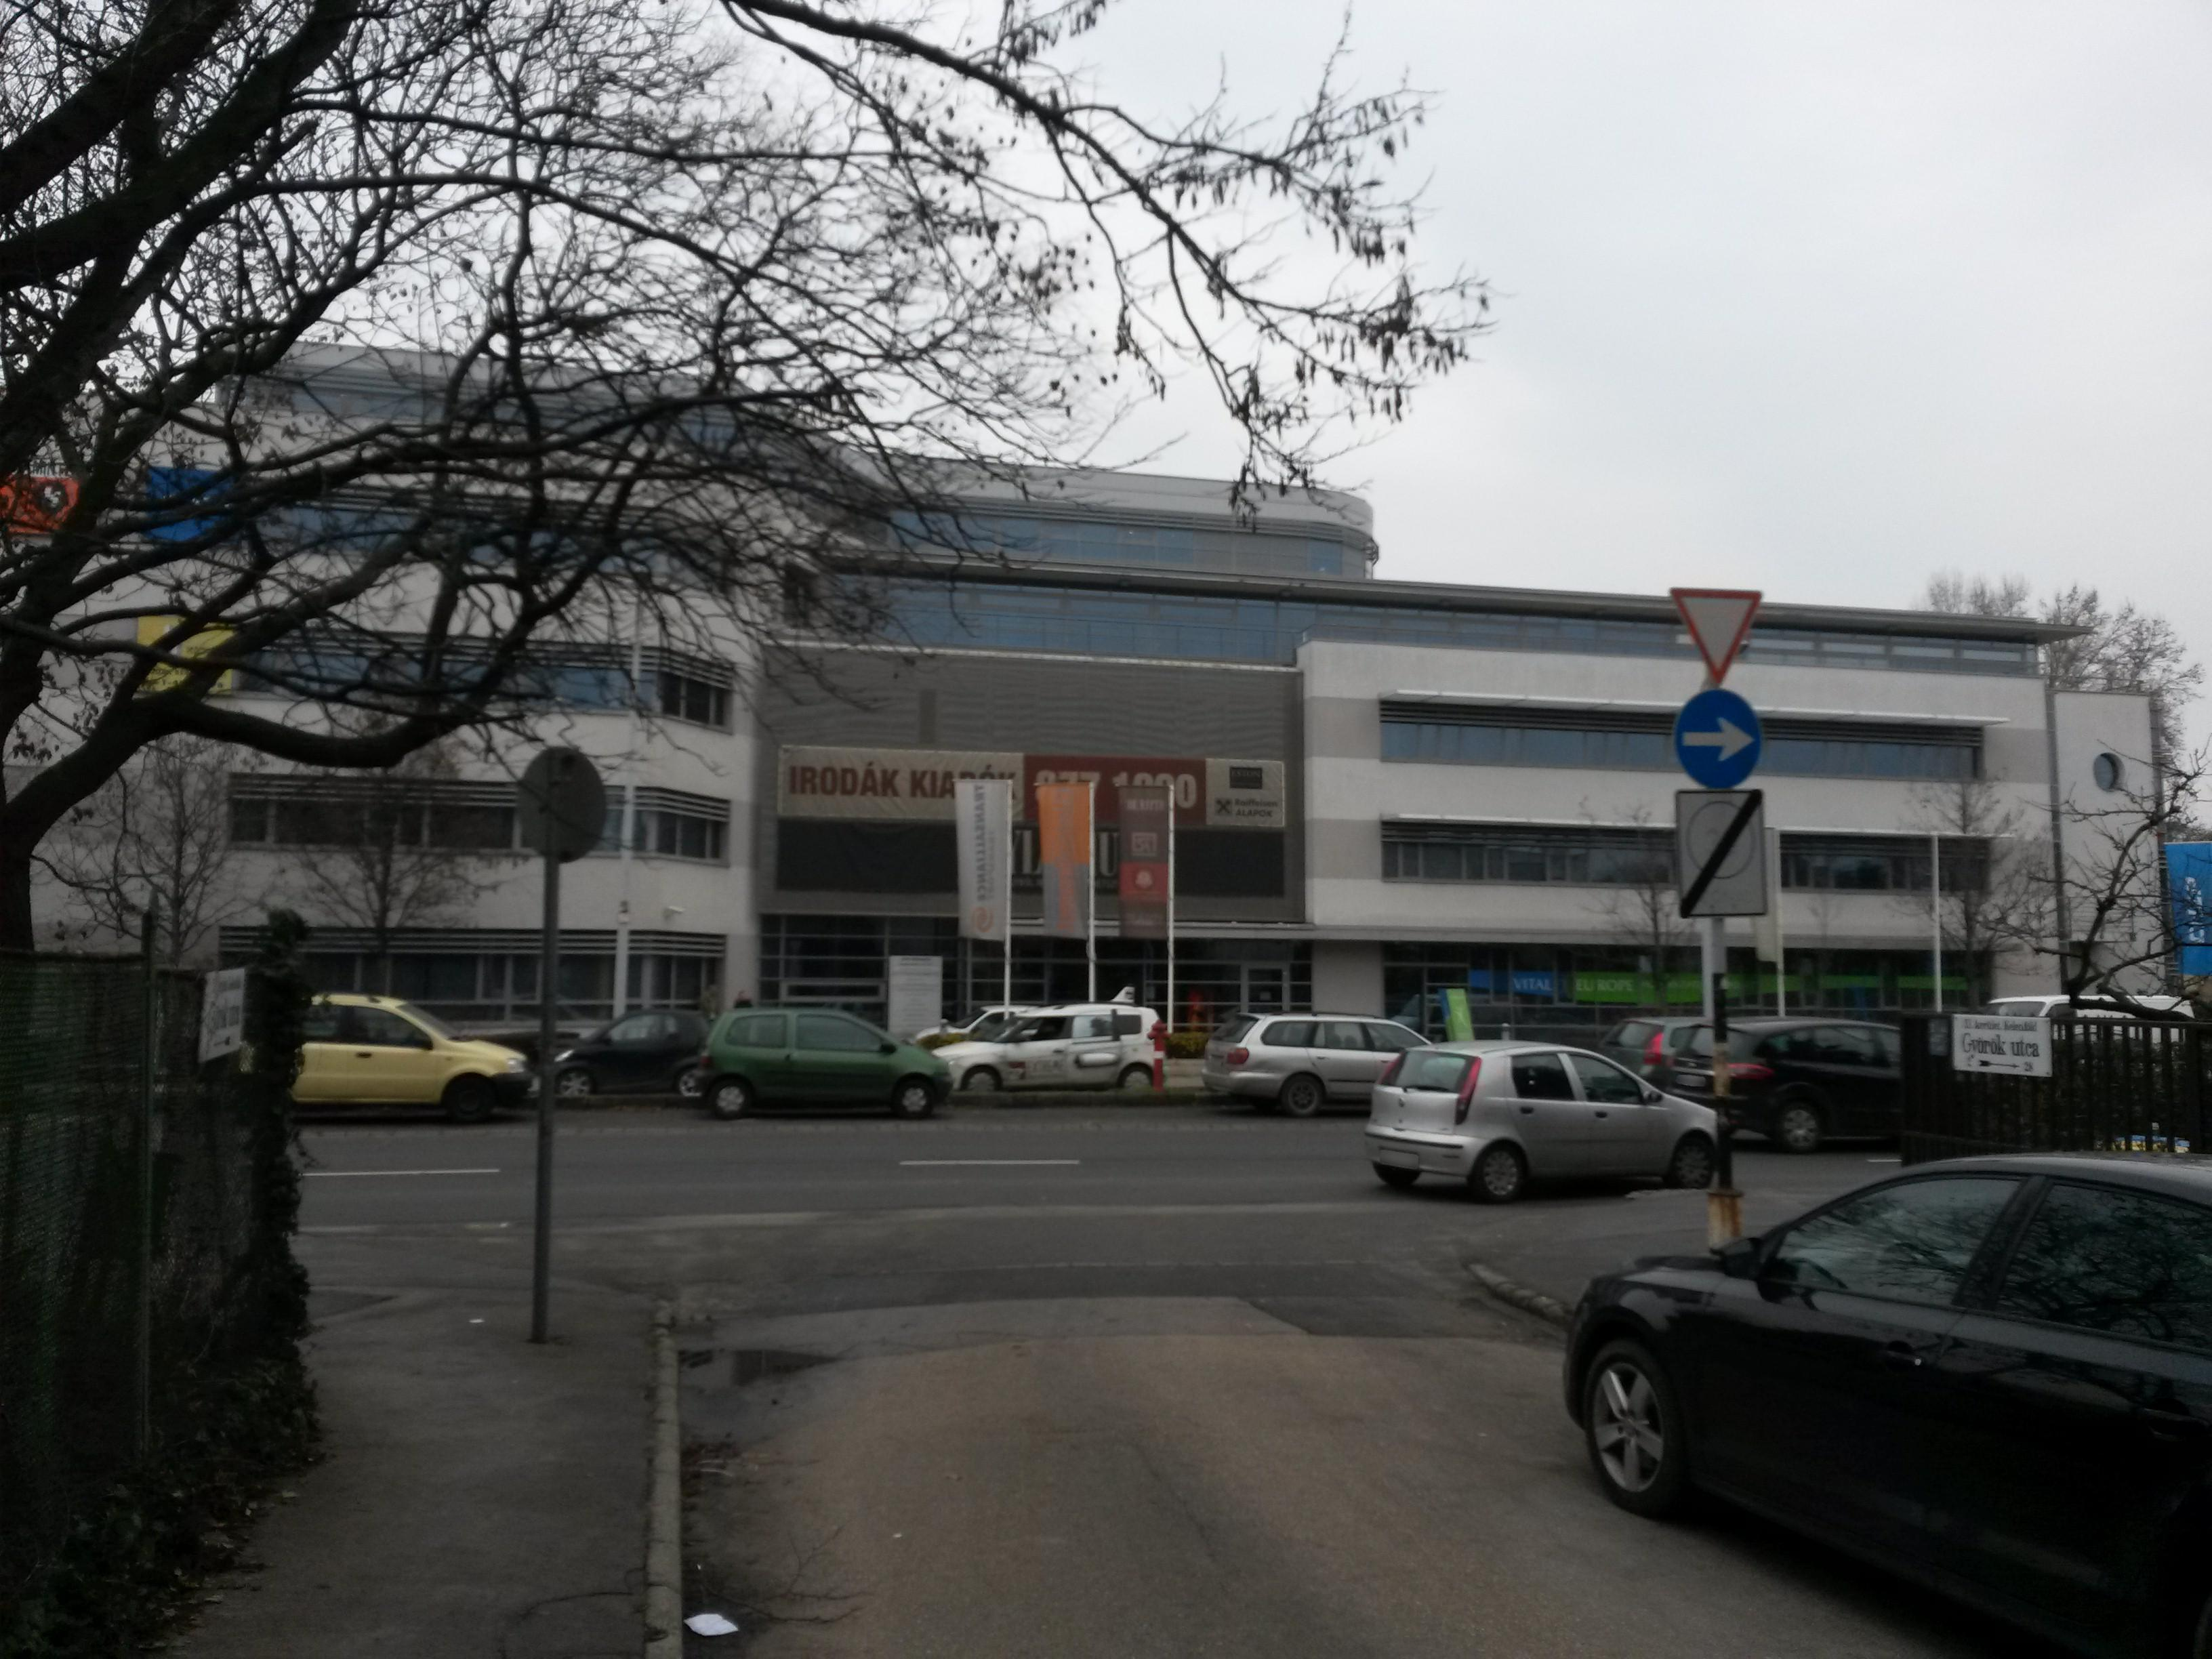vinyl banner: (754, 732, 1301, 836), (1031, 774, 1099, 953), (942, 774, 1012, 938), (1113, 774, 1169, 951)
